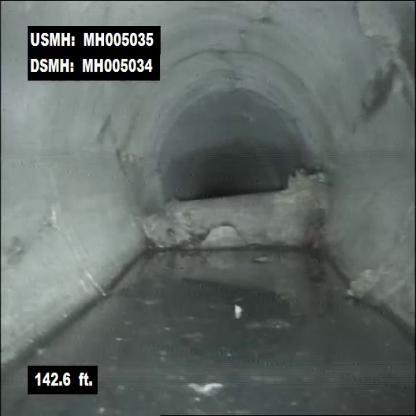utits: (122, 149, 348, 292)
